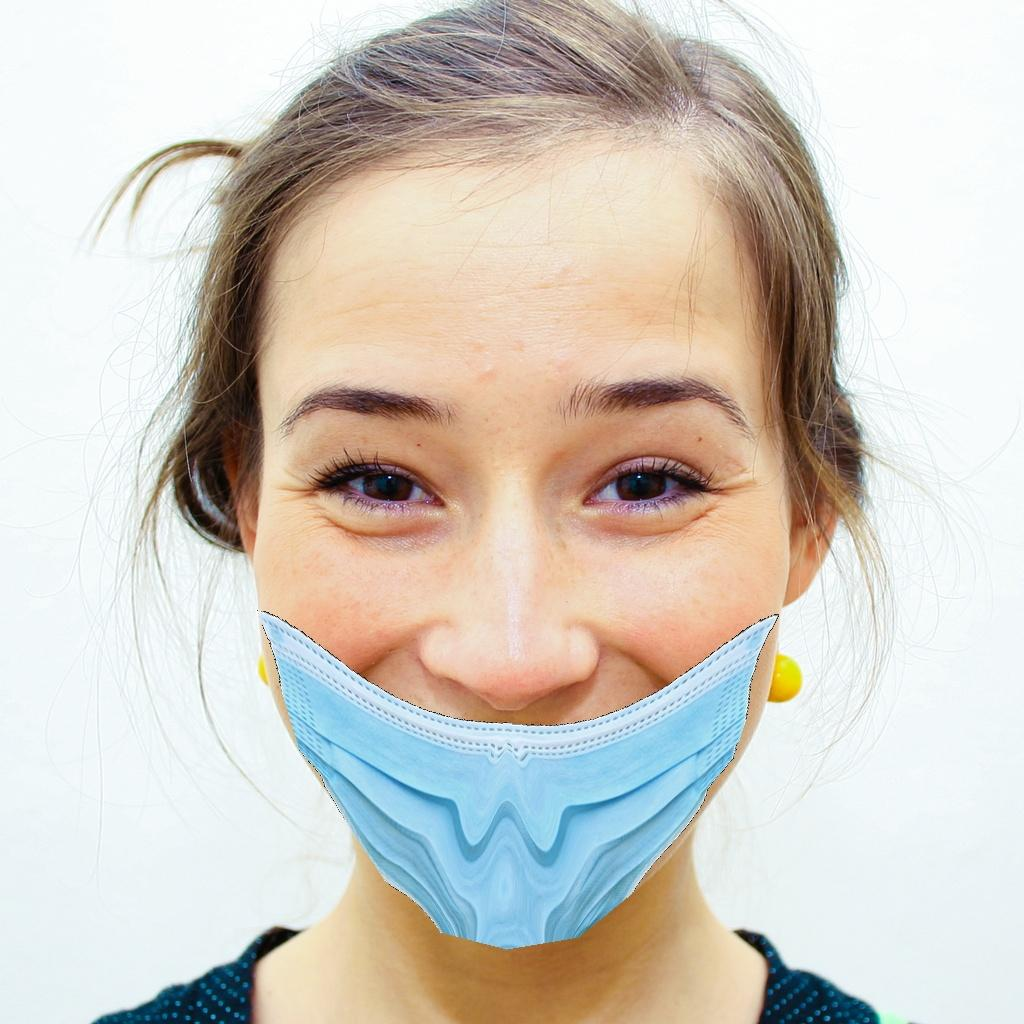Máscara Incorreta: (252, 340, 797, 917)
